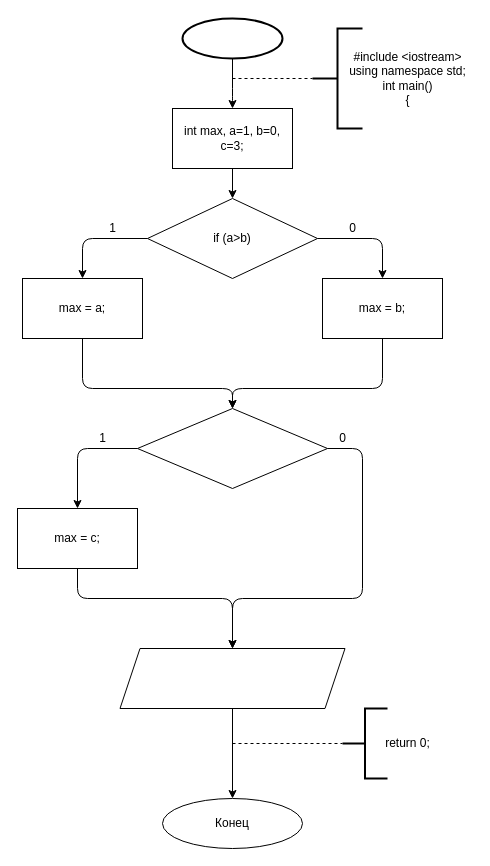
This 490x866 diagram has some shape labels left out. The shapes that lost their labels are listed below. From the top down, each one's centre as x and y in pixels, then its label:
the point at 232,38: Запуск
the point at 232,448: if (max < c)
the point at 232,678: cout << "max = " << max << endl;
